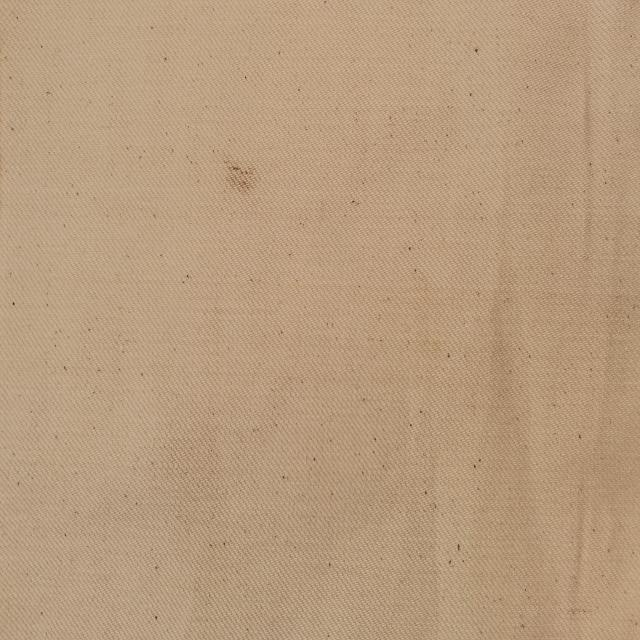taaaches: (218, 144, 264, 210)
